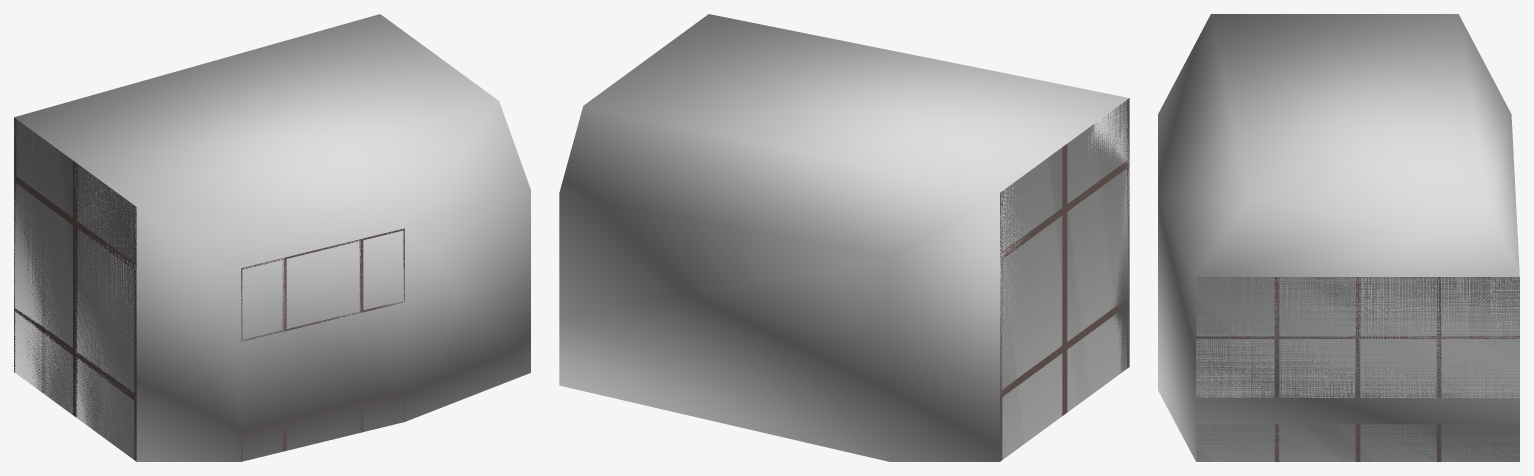
3 renders of one model, left to right at view 1: azimuth 30°, elevation 25°; view 2: azimuth 150°, elevation 25°; view 3: azimuth 270°, elevation 25°, orthographic. The views are drawn at different scales.
Parts seen in each view (by area): view 1: struct_city_block_tall_tier2_a_01_col, struct_city_block_tall_tier2_a_01; view 2: struct_city_block_tall_tier2_a_01_col, struct_city_block_tall_tier2_a_01; view 3: struct_city_block_tall_tier2_a_01_col, struct_city_block_tall_tier2_a_01.
Boxes of the visible parts, x1=… form: struct_city_block_tall_tier2_a_01_col: x1=14, y1=14, x2=530, y2=461; struct_city_block_tall_tier2_a_01: x1=14, y1=117, x2=404, y2=461; struct_city_block_tall_tier2_a_01_col: x1=559, y1=14, x2=1129, y2=461; struct_city_block_tall_tier2_a_01: x1=1000, y1=98, x2=1129, y2=461; struct_city_block_tall_tier2_a_01_col: x1=1158, y1=14, x2=1519, y2=461; struct_city_block_tall_tier2_a_01: x1=1196, y1=277, x2=1519, y2=461.
Bounding box in the file's own units: 8.82 × 5.55 × 7.08.
Materials: 2 (2 with a texture image).
